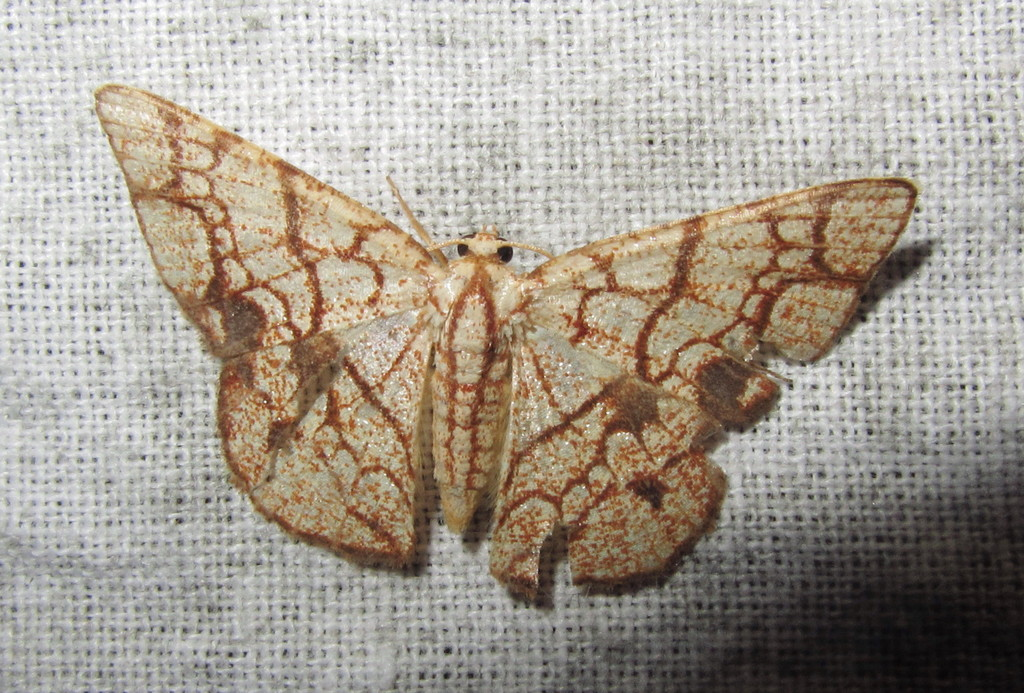Butterfly: (79, 58, 934, 606)
